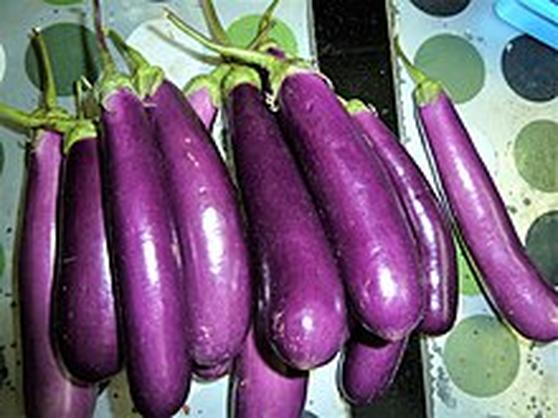eggplant: (215, 60, 359, 386), (132, 57, 268, 384), (406, 62, 558, 348), (272, 66, 427, 344), (96, 72, 200, 418), (47, 116, 127, 389)
